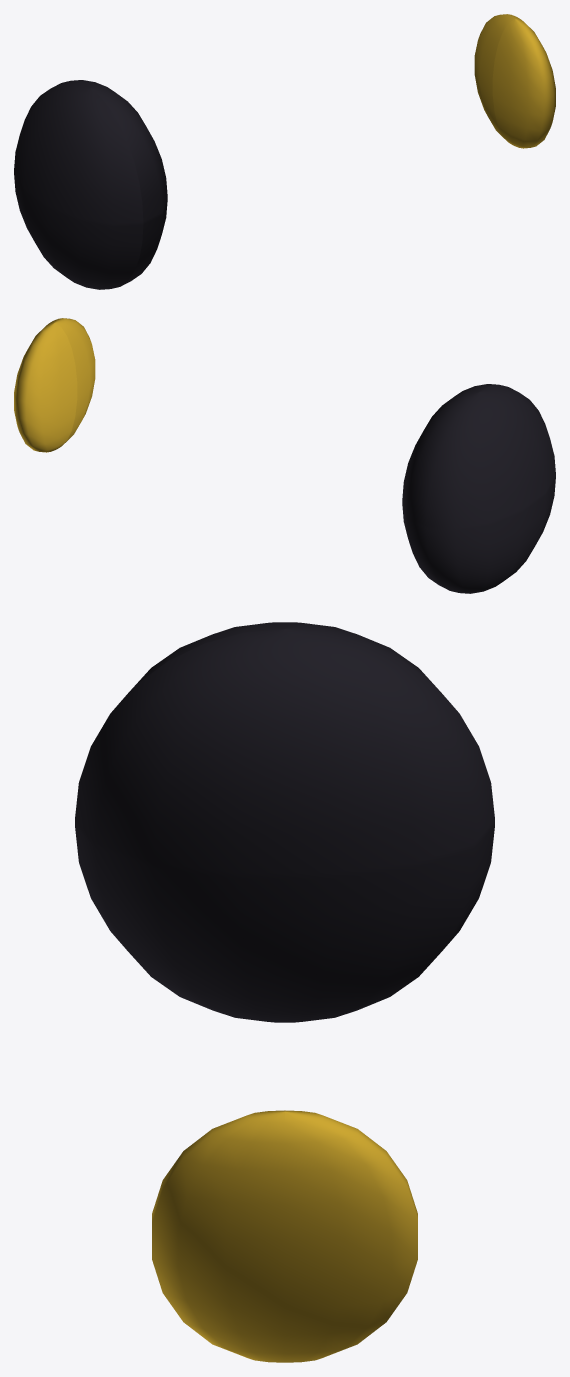
File: watch-gold-v1.glb
3 views of the same model, one above another, from view 1: azimuth 30°, elevation 25°; view 2: azimuth 150°, elevation 25°; view 3: azimuth 270°, elevation 25° (orthographic). The views are drawn at different scales.
Parts seen in each view (by area): view 1: watch_strap, watch_face; view 2: watch_strap, watch_face; view 3: watch_strap, watch_face.
Part boxes in pixels (x1,y1,x2,y2): watch_strap: [14, 80, 167, 289]; watch_face: [474, 14, 555, 148]; watch_strap: [402, 384, 555, 593]; watch_face: [14, 318, 95, 452]; watch_strap: [75, 622, 494, 1022]; watch_face: [152, 1110, 417, 1362].
Bounding box in the file's own units: 0.1765 × 0.065 × 0.064.
